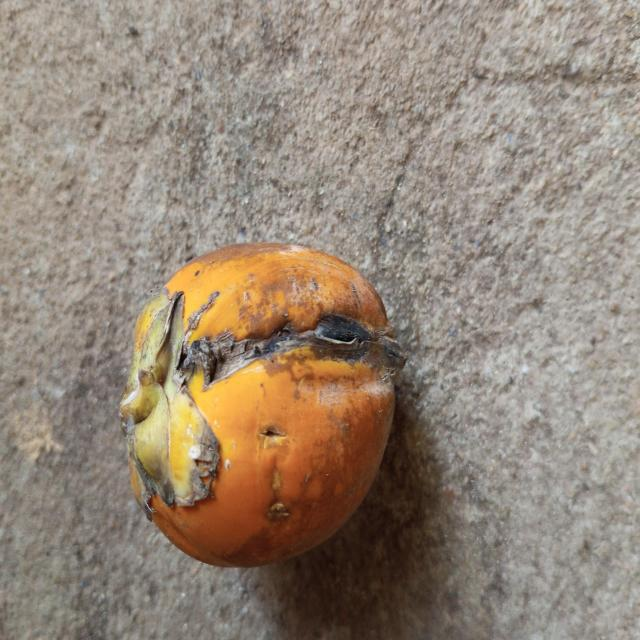damaged: (120, 244, 407, 566)
